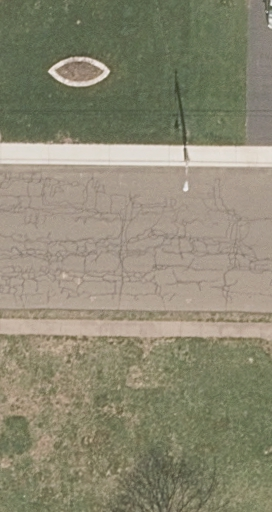DT: (181, 136, 193, 193)
